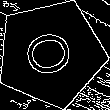O_E: (21, 26, 81, 80)
